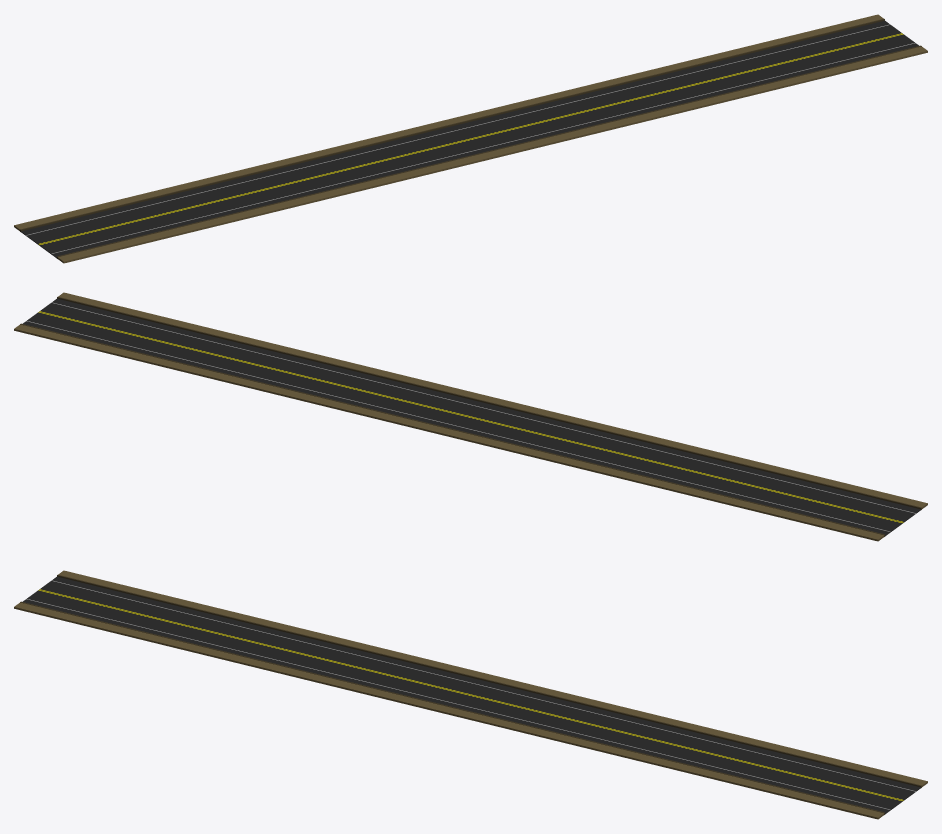
File: clay_Ave_base.glb
3 renders of one model, top to bottom at view 1: azimuth 30°, elevation 25°; view 2: azimuth 150°, elevation 25°; view 3: azimuth 330°, elevation 25°, orthographic.
Parts seen in each view (by area): view 1: RoadBase1, RoadBase, Sidewalk1, RoadBase2, RoadBase3, Sidewalk2, Curb2, Curb1, yellowline-1, shoulder-1, shoulder-2, yellowline-2; view 2: RoadBase, RoadBase1, Sidewalk2, RoadBase3, RoadBase2, Sidewalk1, Curb1, Curb2, shoulder-1, yellowline-2, shoulder-2, yellowline-1; view 3: RoadBase1, RoadBase, Sidewalk1, RoadBase2, RoadBase3, Sidewalk2, Curb2, Curb1, shoulder-2, yellowline-1, shoulder-1, yellowline-2.
Boxes of the visible parts, x1,y1,x2,y2 form: RoadBase1: (28, 26, 902, 244); RoadBase: (39, 34, 913, 252); Sidewalk1: (57, 46, 927, 263); RoadBase2: (21, 20, 891, 236); RoadBase3: (49, 41, 919, 258); Sidewalk2: (14, 14, 883, 230); Curb2: (20, 19, 884, 231); Curb1: (57, 45, 921, 258); yellowline-1: (39, 34, 903, 245); shoulder-1: (26, 24, 890, 235); shoulder-2: (51, 43, 915, 253); yellowline-2: (38, 33, 902, 244); RoadBase: (39, 304, 913, 522); RoadBase1: (28, 312, 902, 530); Sidewalk2: (14, 324, 884, 541); RoadBase3: (49, 298, 920, 515); RoadBase2: (22, 319, 892, 536); Sidewalk1: (58, 292, 927, 509); Curb1: (57, 297, 921, 509); Curb2: (20, 323, 884, 536); shoulder-1: (26, 321, 890, 532); yellowline-2: (38, 312, 902, 522); shoulder-2: (51, 302, 915, 513); yellowline-1: (39, 311, 903, 522); RoadBase1: (39, 582, 913, 800); RoadBase: (28, 590, 902, 808); Sidewalk1: (14, 602, 884, 819); RoadBase2: (49, 576, 920, 793); RoadBase3: (22, 597, 892, 814); Sidewalk2: (58, 570, 927, 787); Curb2: (57, 575, 921, 787); Curb1: (20, 601, 884, 814); shoulder-2: (26, 599, 890, 810); yellowline-1: (38, 590, 902, 800); shoulder-1: (51, 580, 915, 791); yellowline-2: (39, 589, 903, 800).
Bounding box in the file's own units: 154 × 0.384 × 15.34.
